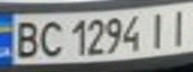1: (66, 16, 87, 56)
2: (84, 15, 109, 56)
4: (121, 11, 148, 53)
9: (103, 13, 127, 55)
B: (9, 17, 42, 60)
C: (36, 17, 66, 57)
I: (163, 4, 193, 47), (142, 8, 172, 50)
